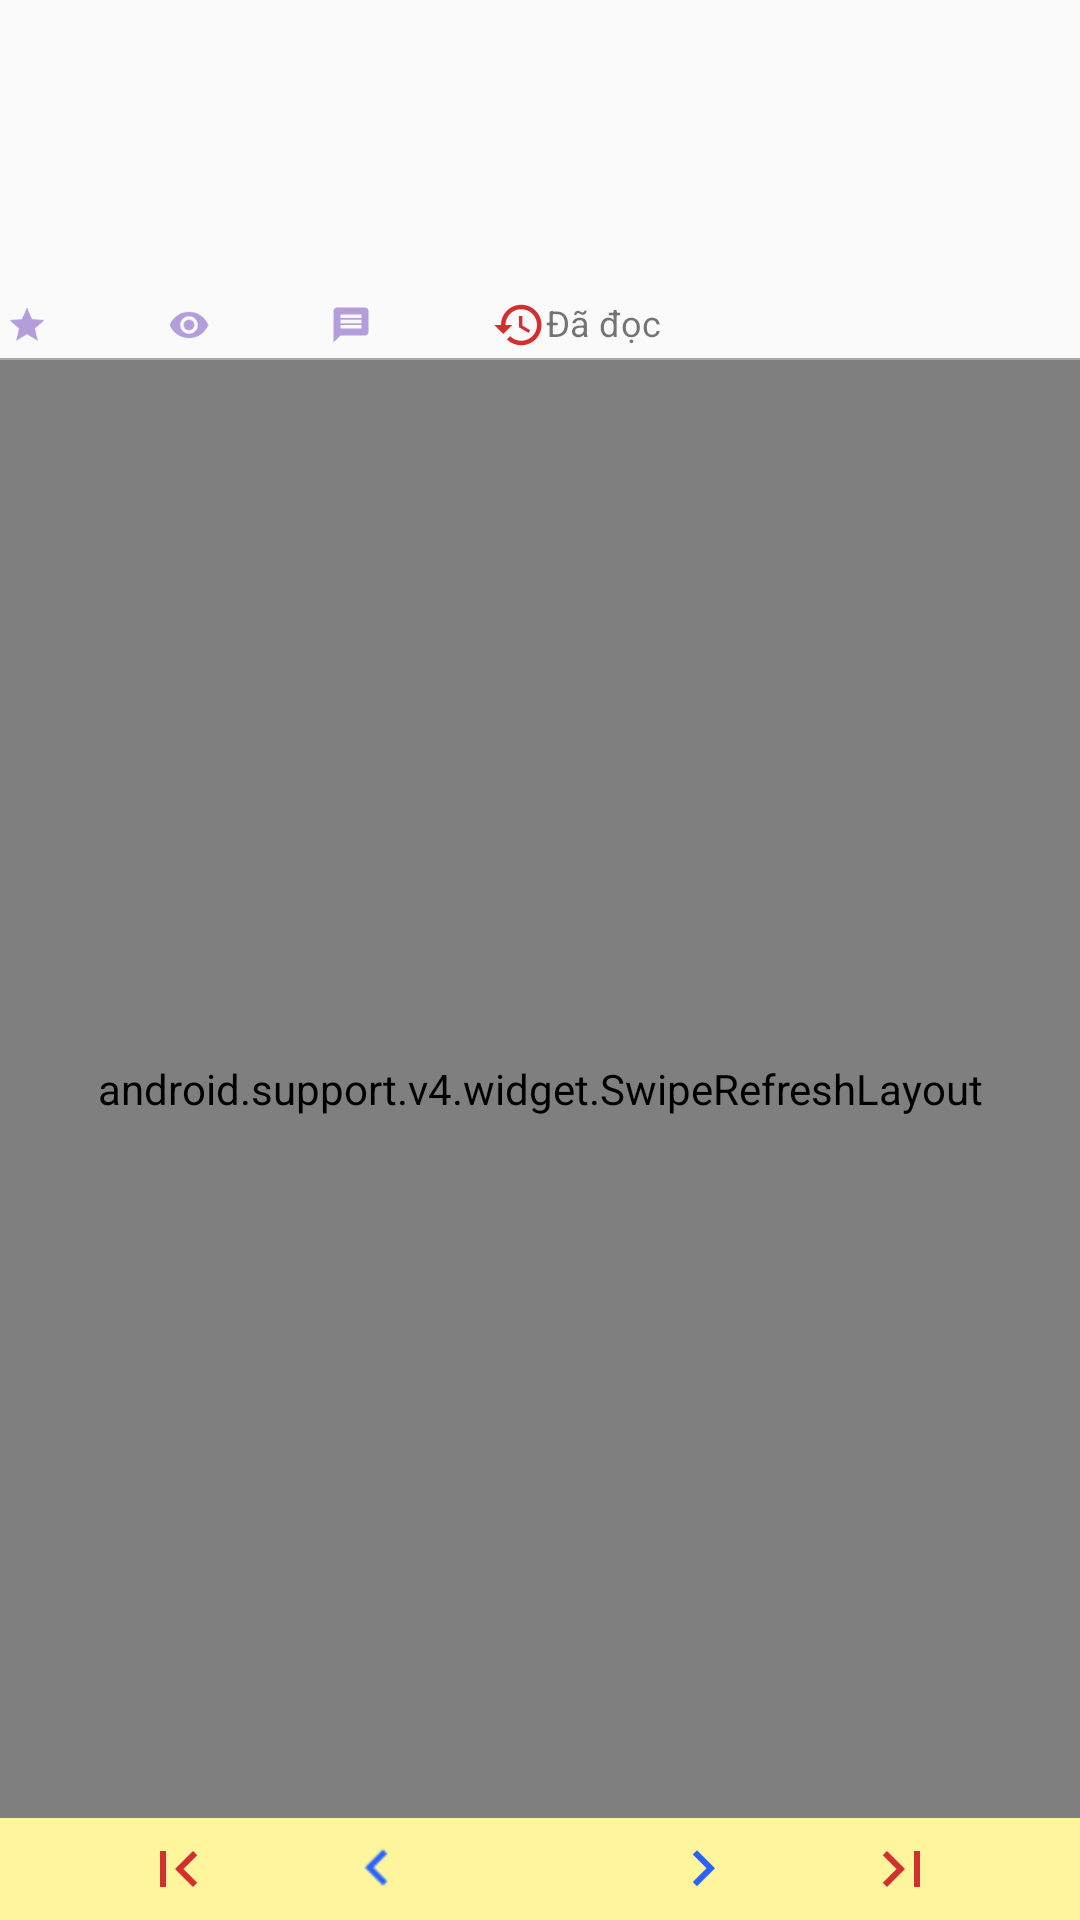

Icons on this 1080 x 1920 Android screen, each with the point to tap as [x,y]:
first page: [178,1869]
keyboard arrow left: [376,1867]
keyboard arrow right: [704,1868]
last page: [901,1869]
message deep: [351,324]
remove eye deep: [189,325]
star deep: [27,324]
